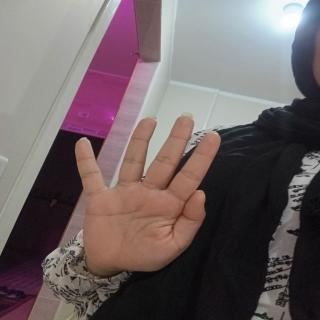SHEEN: (68, 107, 230, 290)
